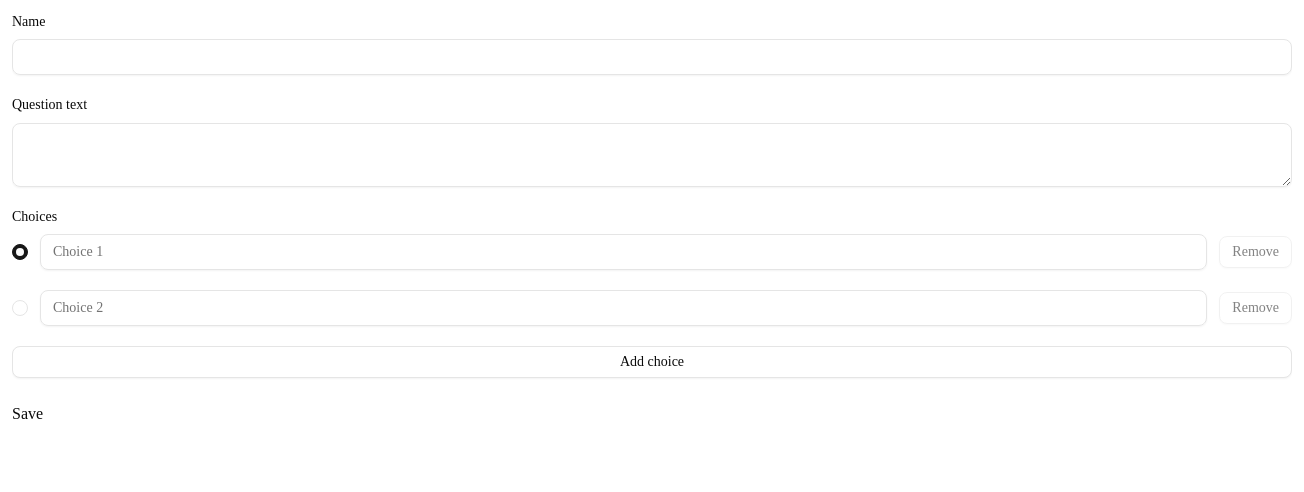
Test case: McqQuestionForm › adds a choice row up to six
Click the button "Add choice" at (652, 362), box [12, 346, 1292, 378]
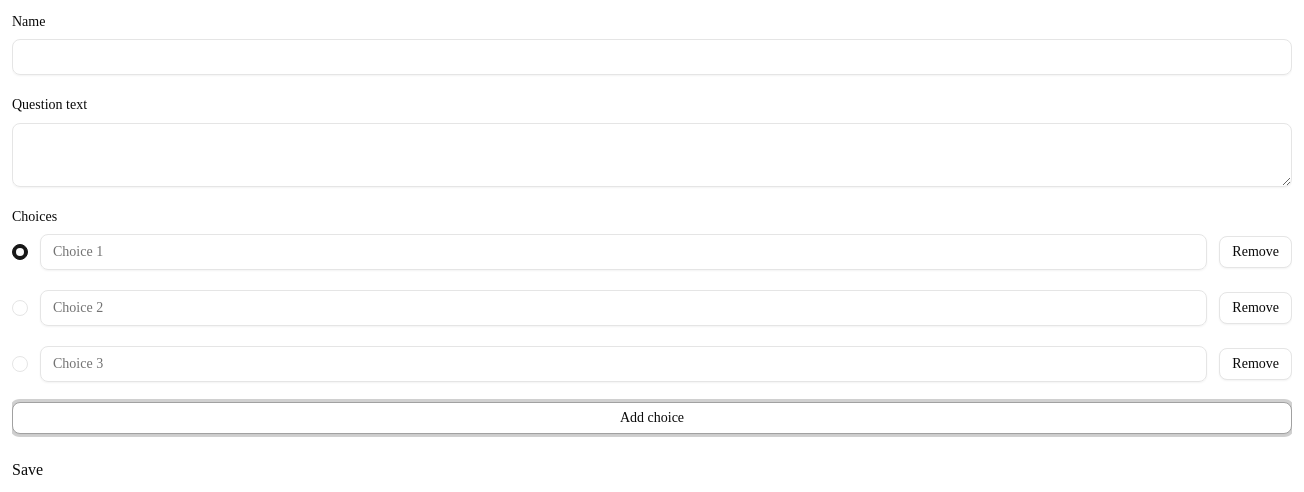
Expected: the number of fields named "choice text" is 3, [40, 234, 1207, 270]; [40, 290, 1207, 326]; [40, 346, 1207, 382]
